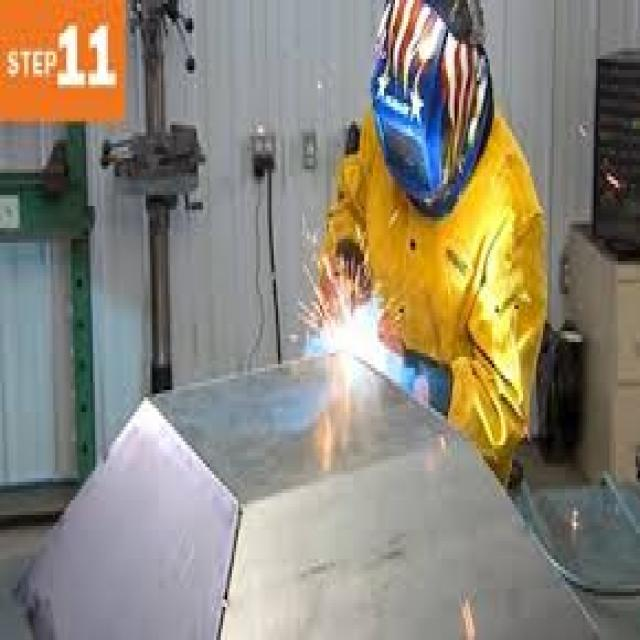fire: (304, 292, 391, 377)
